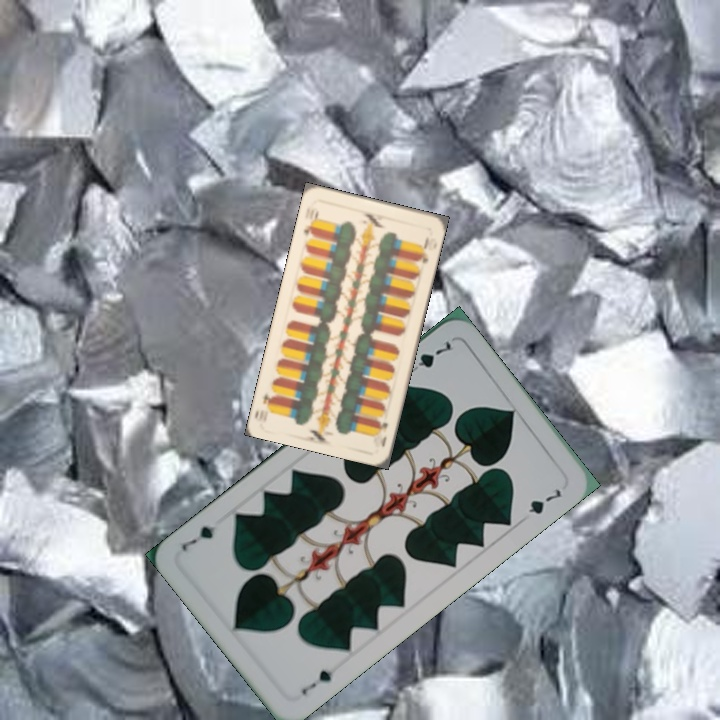E10: (300, 206, 321, 239), (375, 416, 390, 450)
G7: (403, 337, 454, 378), (297, 665, 336, 698)
